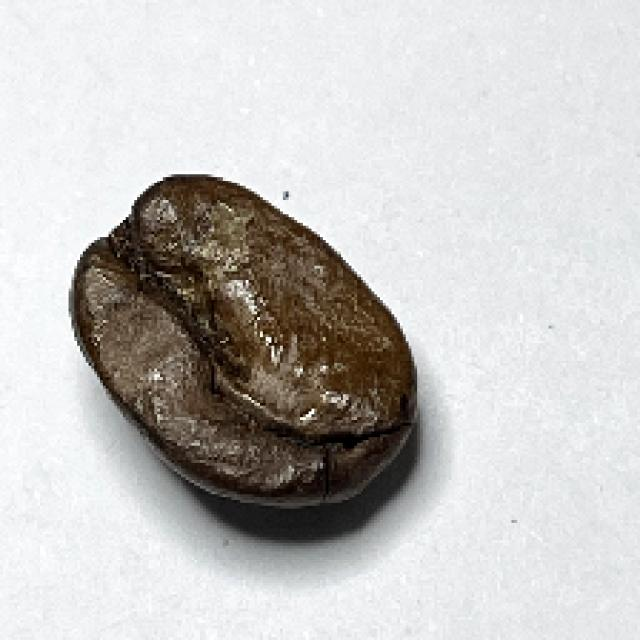bean: (66, 173, 418, 508)
